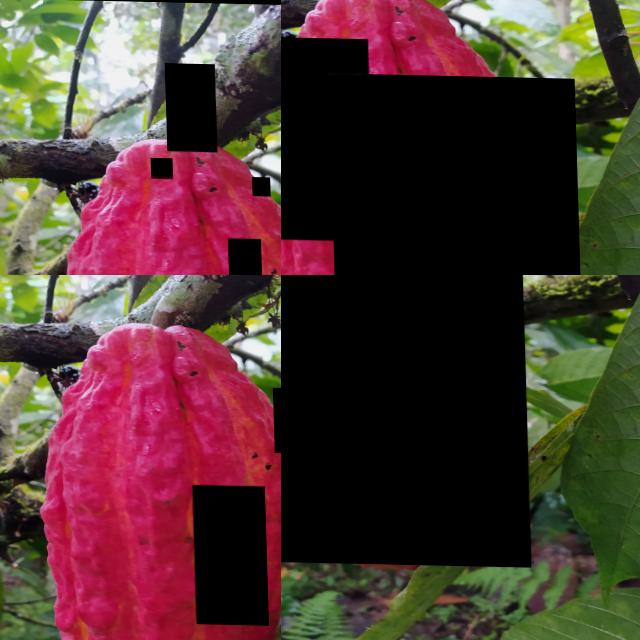Sana: (281, 275, 528, 565), (327, 72, 581, 275), (281, 35, 371, 240), (191, 483, 266, 624), (164, 62, 216, 151), (226, 236, 261, 275), (150, 157, 172, 177), (251, 175, 269, 194)
